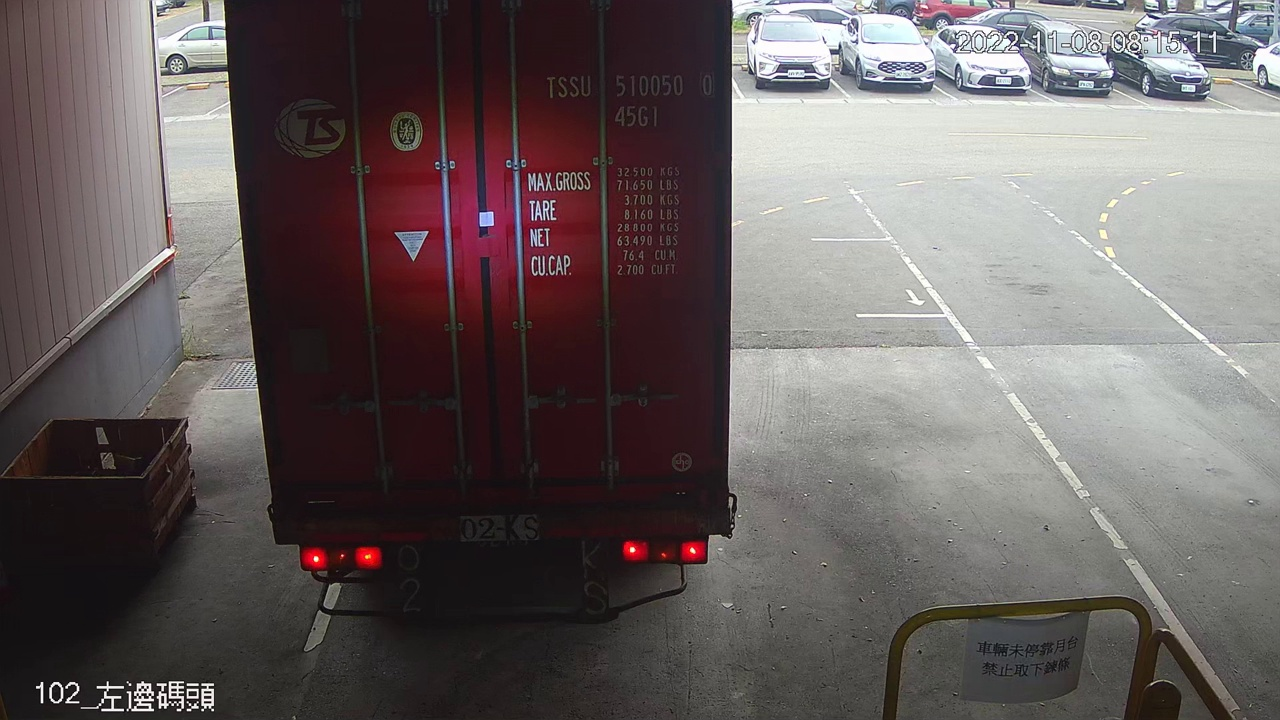container: (540, 64, 719, 137)
